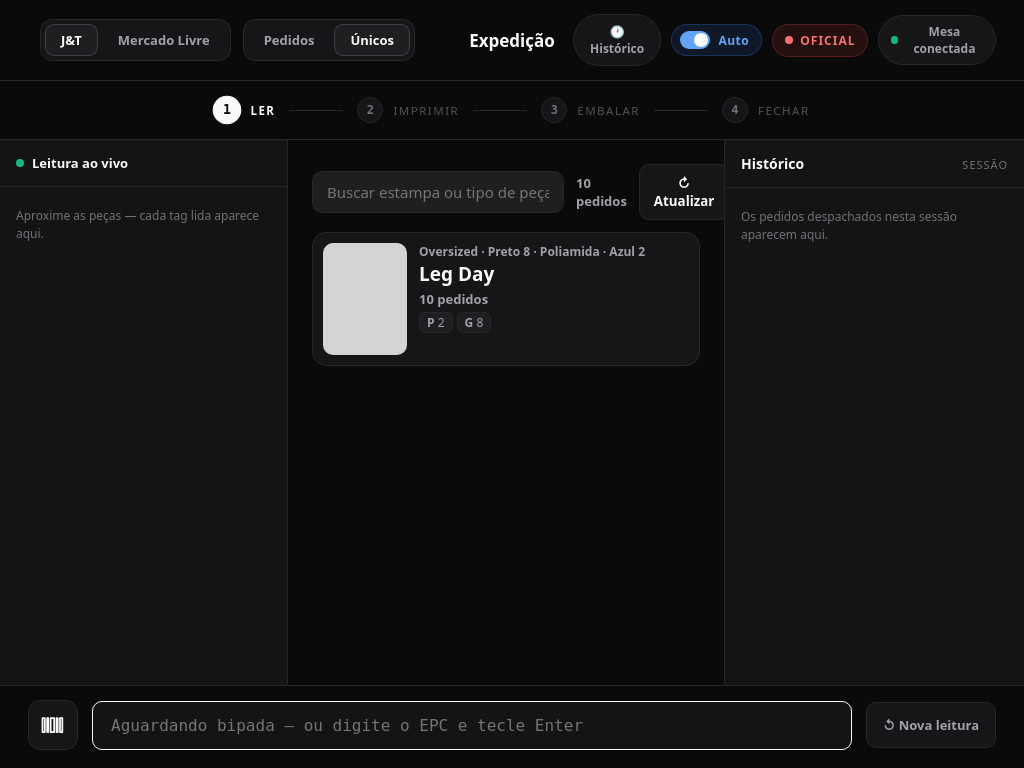
Test: Expedição — modo Únicos › card mostra tipo e cor acima da estampa; com dois tipos mostra contagens e a foto do dominante
The width and height of the screenshot is (1024, 768).
Expected: the text "Oversized · Preto 8 · Poliamida · Azul 2" is shown, [419,243,645,260]
What coordinates should you click on to do the following:
click the button titled "Abrir Leg Day"
I would click on:
 (365, 299)
Its box is [312,232,700,366].
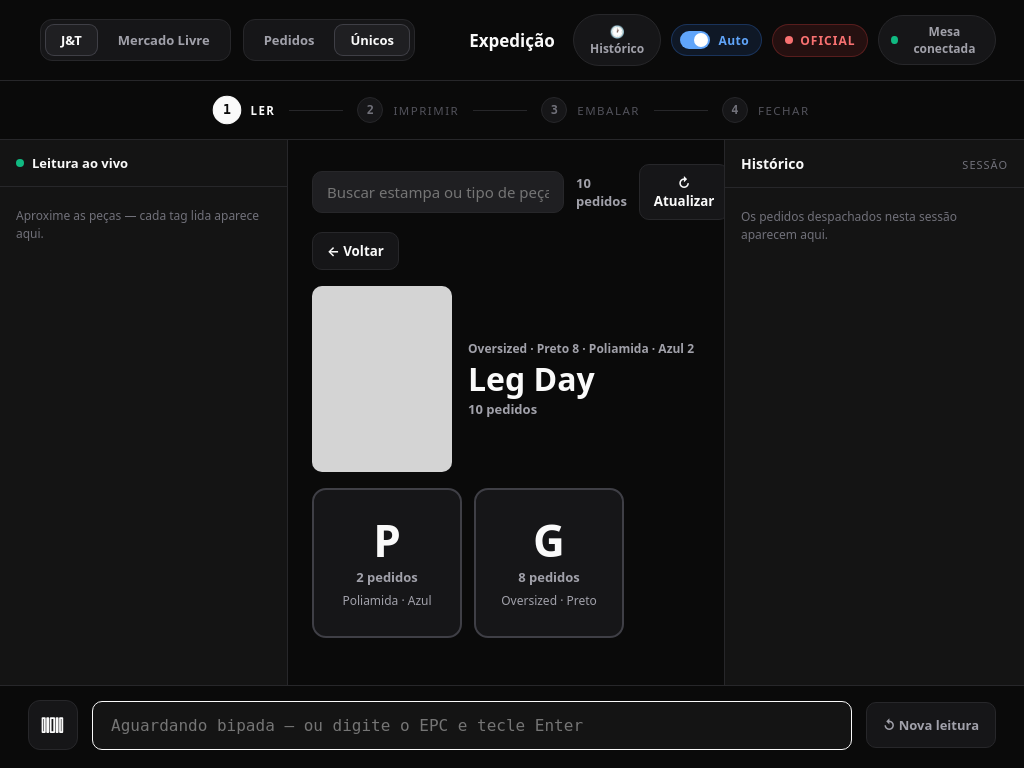
Result: the text "Poliamida · Azul" is shown at [342,592,432,608]
Result: the text "Oversized · Preto" is shown at [501,592,597,608]
